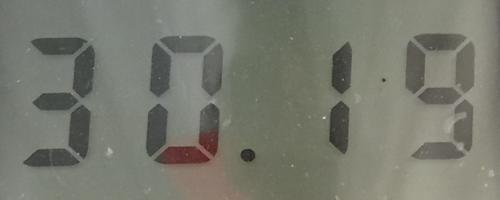.: (236, 143, 259, 166)
